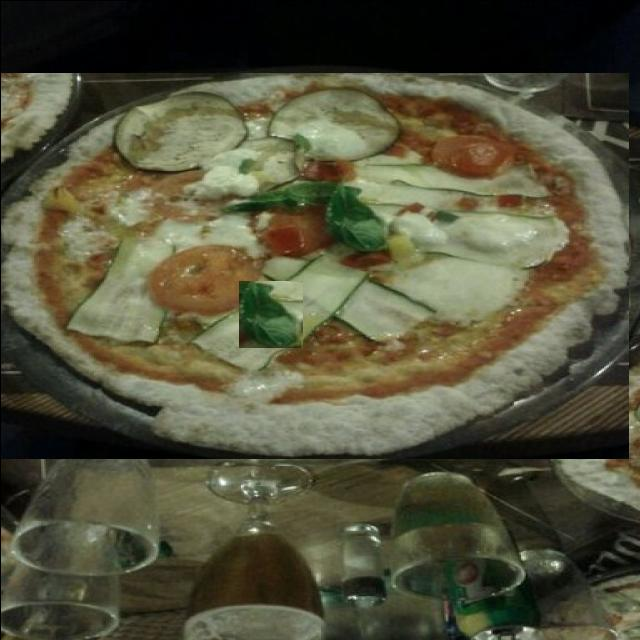basil: (238, 280, 302, 347), (289, 317, 404, 351)
pizza: (0, 72, 628, 458)
